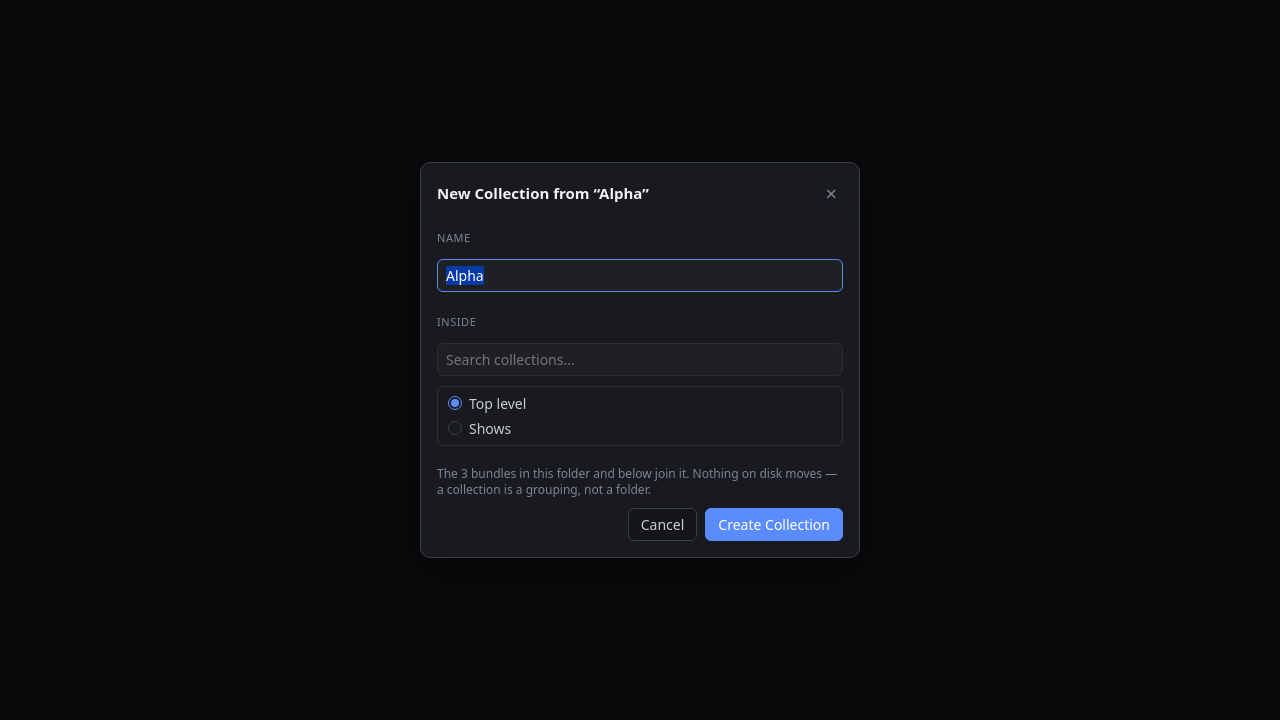
Test case: a search matching nothing says so, and still offers the top level
Type "zzz" into the search field labelled "Inside" at (640,359), box [437, 343, 843, 376]
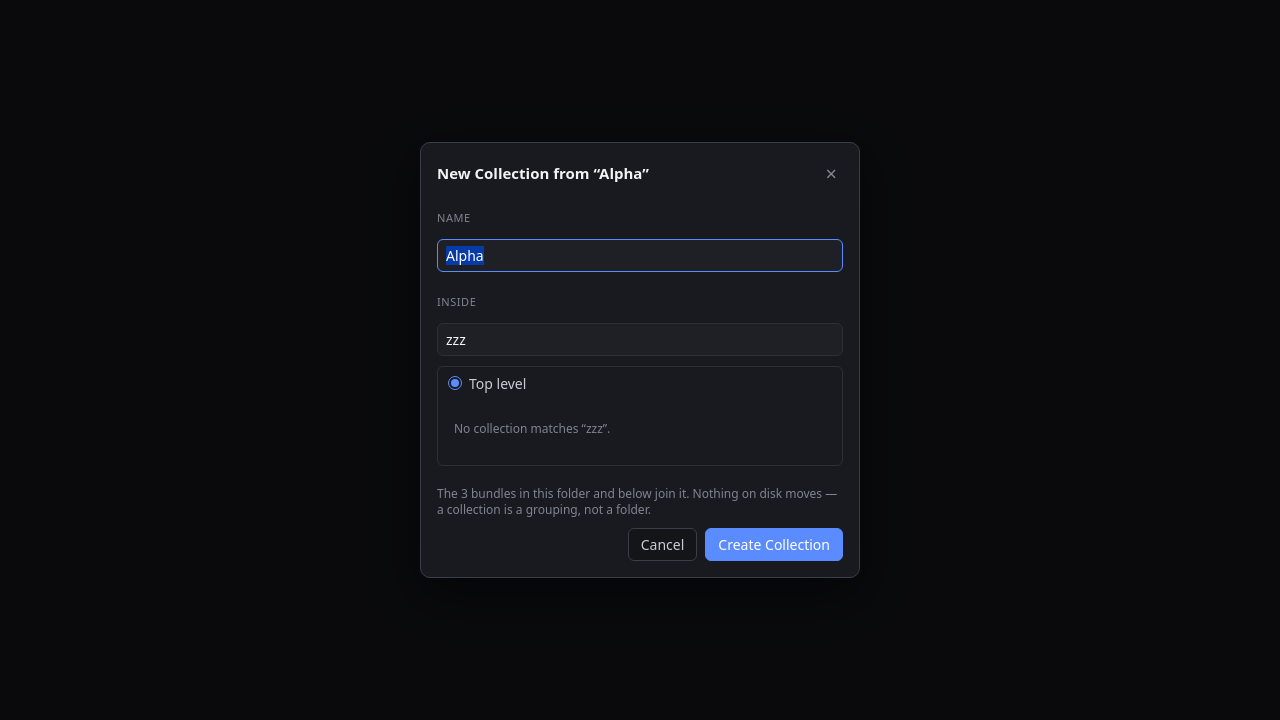
Now the text "No collection matches “zzz”." is shown, box [454, 420, 610, 437]
